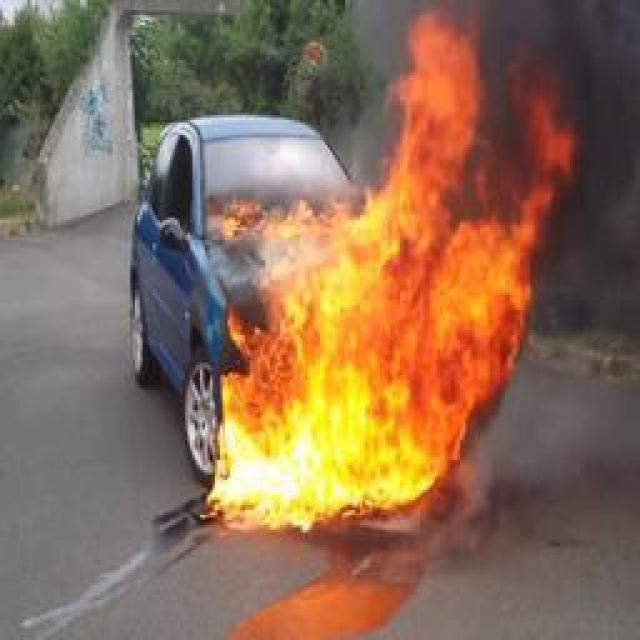Fire: (201, 7, 579, 535), (198, 196, 348, 244)
